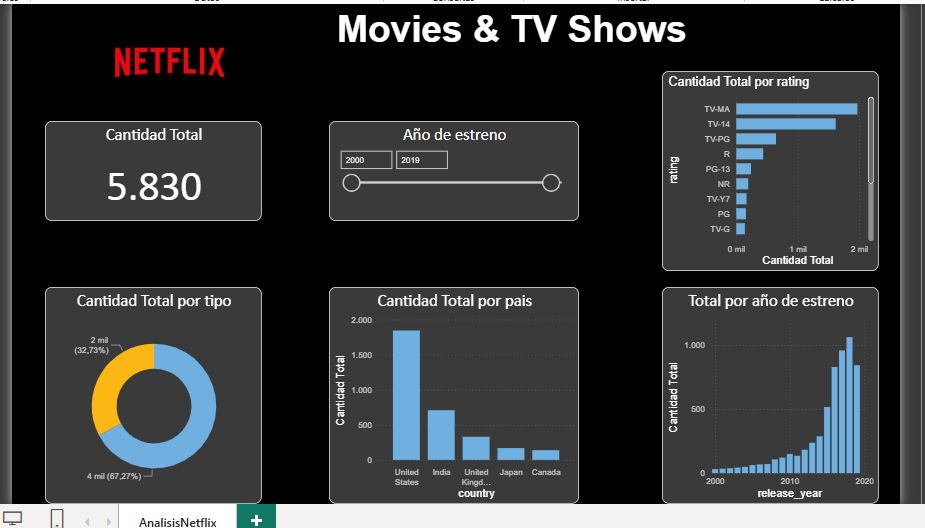

Layout of this report page (visuals, bound fields, positions):
{"tool":"powerbi","page":{"name":"AnalisisNetflix","canvas":[1280,720],"ordinal":0},"visuals":[{"type":"card","title":"Cantidad Total","fields":{"Values":["TitulosNetflix.Cantidad Total"]},"box":[48,168,312,144],"z":0},{"type":"donutChart","title":"Cantidad Total por tipo","fields":{"Y":["TitulosNetflix.Cantidad Total"],"Category":["TitulosNetflix.type"]},"box":[48,408,312,312],"z":1000},{"type":"barChart","fields":{"Category":["TitulosNetflix.rating"],"Y":["TitulosNetflix.Cantidad Total"]},"box":[936,96,312,288],"z":2000},{"type":"clusteredColumnChart","title":"Cantidad Total por pais","fields":{"Y":["TitulosNetflix.Cantidad Total"],"Category":["TitulosNetflix.country"]},"box":[456,408,360,312],"z":3000},{"type":"columnChart","title":"Total por año de estreno","fields":{"Category":["TitulosNetflix.release_year"],"Y":["TitulosNetflix.Cantidad Total"]},"box":[936,408,312,312],"z":4000},{"type":"slicer","title":"Año de estreno","fields":{"Values":["TitulosNetflix.release_year"]},"box":[456,168,360,144],"z":5000},{"type":"textbox","box":[360,0,720,72],"z":5001},{"type":"image","box":[48,0,360,168],"z":5002}]}

Visuals, with their boxes in screenshot pixels (x1, y1, x2, y2):
"Cantidad Total" card: [47, 118, 262, 217]
"Cantidad Total por tipo" donutChart: [47, 283, 262, 497]
barChart - TitulosNetflix.rating x TitulosNetflix.Cantidad Total: [658, 68, 872, 266]
"Cantidad Total por pais" clusteredColumnChart: [328, 283, 575, 497]
"Total por año de estreno" columnChart: [658, 283, 872, 497]
"Año de estreno" slicer: [328, 118, 575, 217]
textbox: [262, 2, 757, 52]
image: [47, 2, 295, 118]
